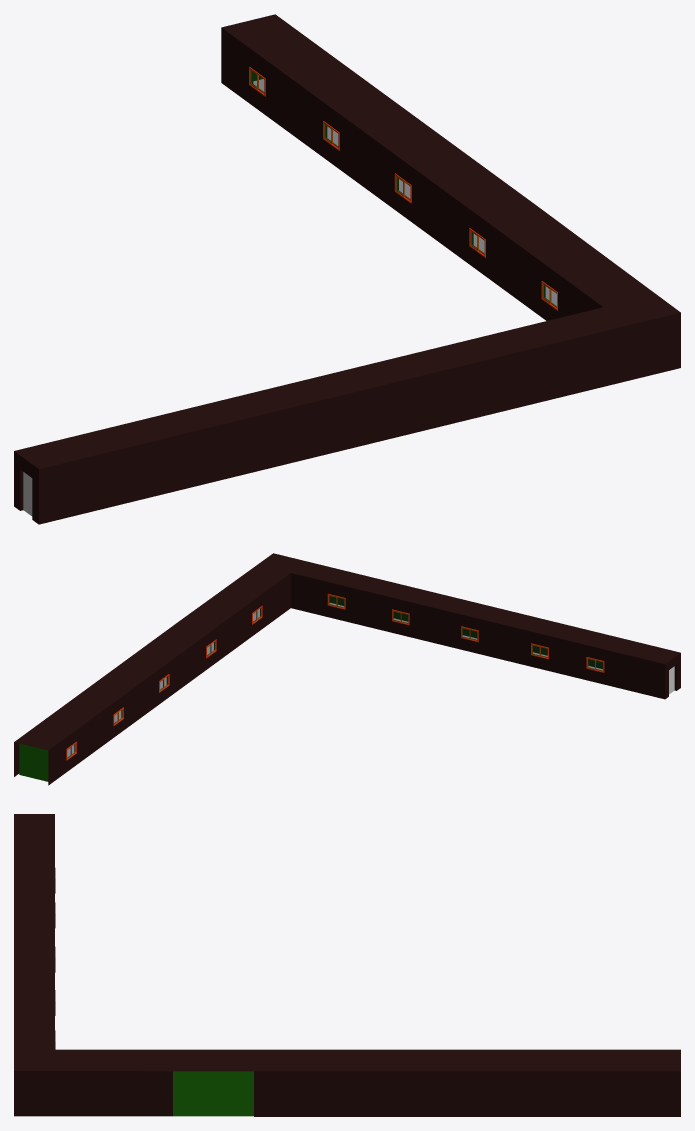
The picture shows the model from 3 angles, top to bottom: view 1: azimuth 30°, elevation 25°; view 2: azimuth 150°, elevation 25°; view 3: azimuth 270°, elevation 25°; orthographic projection. The views are drawn at different scales.
Visible parts, largest first — view 1: Object023; view 2: Object023; view 3: Object023.
Part boxes in pixels (bbox=[...]): Object023: bbox=[14, 14, 680, 524]; Object023: bbox=[14, 553, 680, 785]; Object023: bbox=[14, 814, 680, 1116].
Bounding box in the file's own units: 3713 × 306 × 4069.
